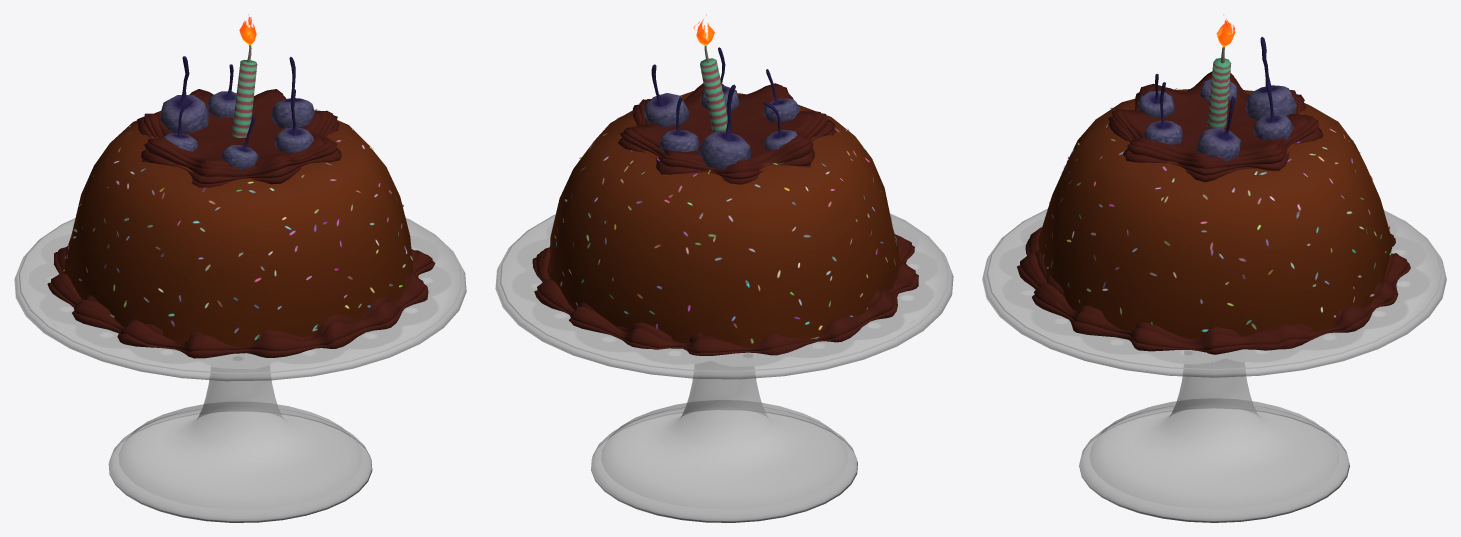
Rendered from cup.glb.
3 views of the same model, side by side, from view 1: azimuth 30°, elevation 25°; view 2: azimuth 150°, elevation 25°; view 3: azimuth 270°, elevation 25° (orthographic). The views are drawn at different scales.
Visible parts, largest first — view 1: Birthday_Cake; view 2: Birthday_Cake; view 3: Birthday_Cake.
Boxes of the visible parts, box(x1,y1,x2,y2) form: Birthday_Cake: box(14, 14, 466, 522); Birthday_Cake: box(495, 14, 953, 522); Birthday_Cake: box(982, 14, 1446, 522).
Size of the model in its own units: 0.7983 by 0.8683 by 0.7983.
Materials: 1 (1 with a texture image).
